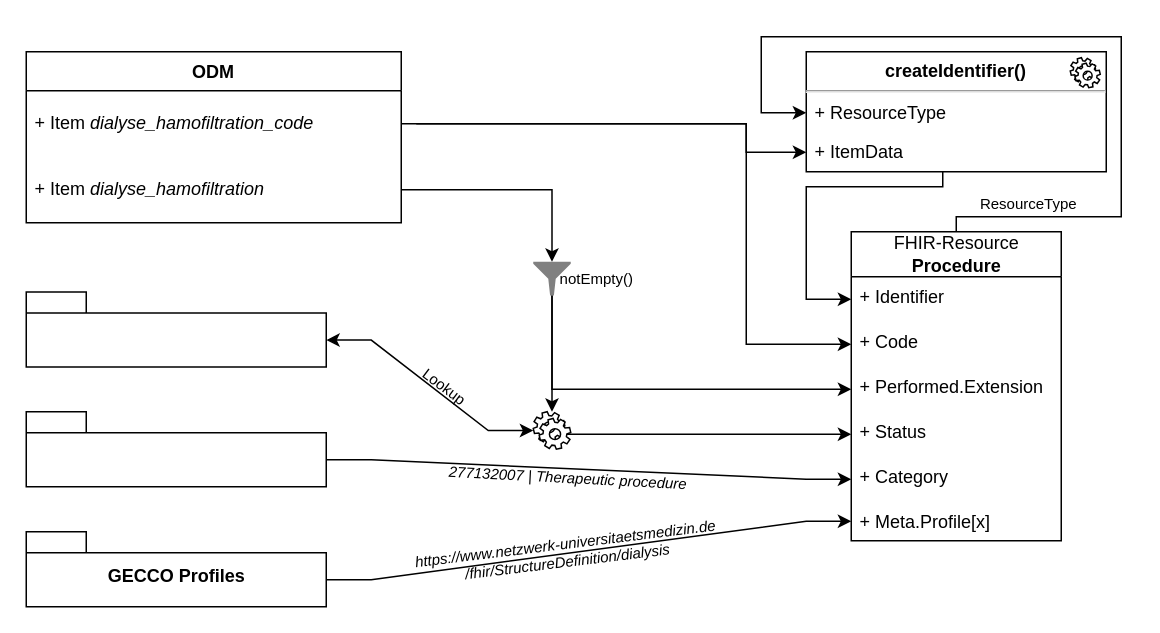
Image size: 1160x633. Some labels were removed from this diagram. The centre of each missing label's shape, as x and y in pixels:
"Codesystem SNOMED-CT" goes at [175,448].
"ValueSet ObservationStatus" goes at [175,329].
